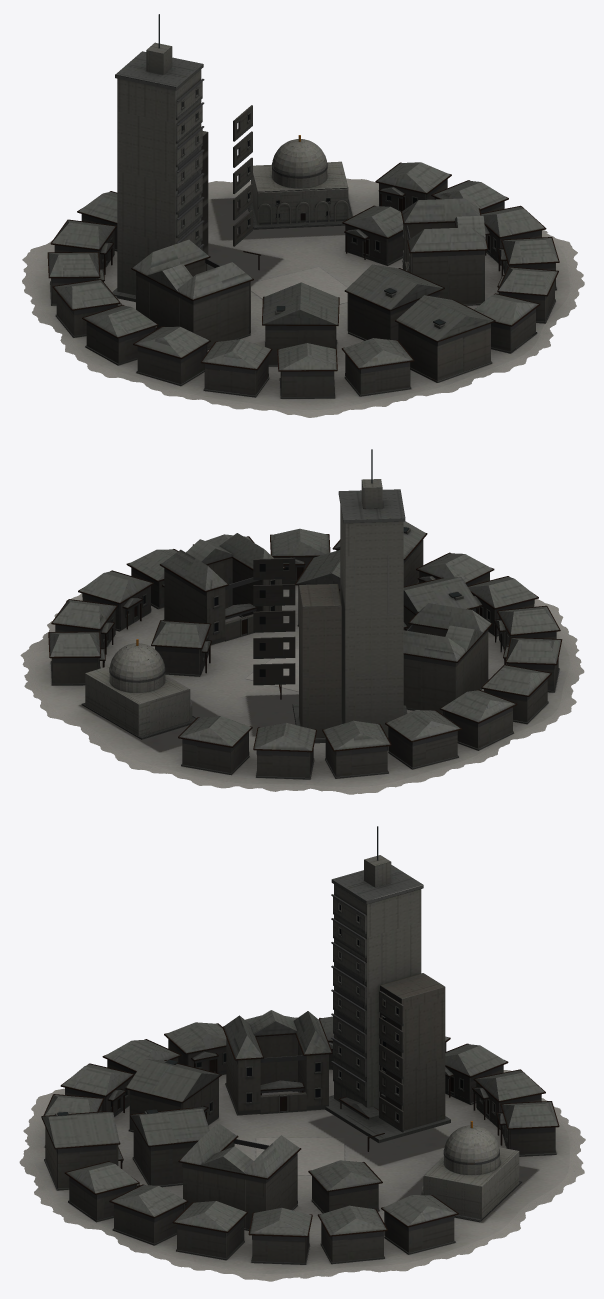
File: modern-town-big-b-westafrica.glb
3 renders of one model, top to bottom at view 1: azimuth 30°, elevation 25°; view 2: azimuth 150°, elevation 25°; view 3: azimuth 270°, elevation 25°, orthographic.
Visible parts, largest first — view 1: LOD0; view 2: LOD0; view 3: LOD0.
Part boxes in pixels (<box>): LOD0: <box>22,14,584,417</box>; LOD0: <box>20,449,584,794</box>; LOD0: <box>19,826,585,1281</box>.
Size of what is drawn, in the model's own units: 8.01 by 4.23 by 7.88.
3 materials, 3 textured.
